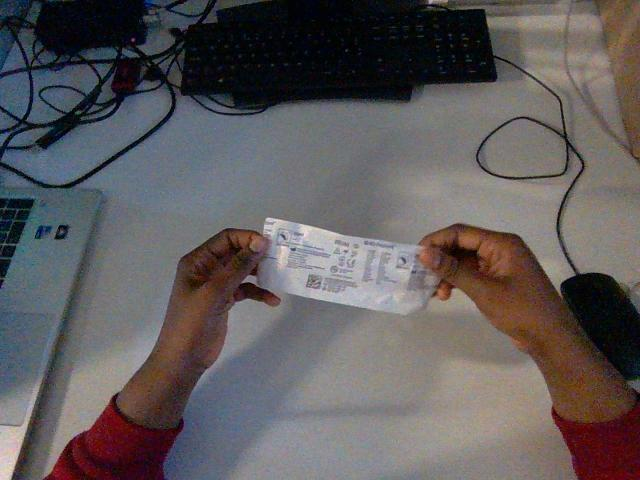syringe: (258, 218, 439, 314)
